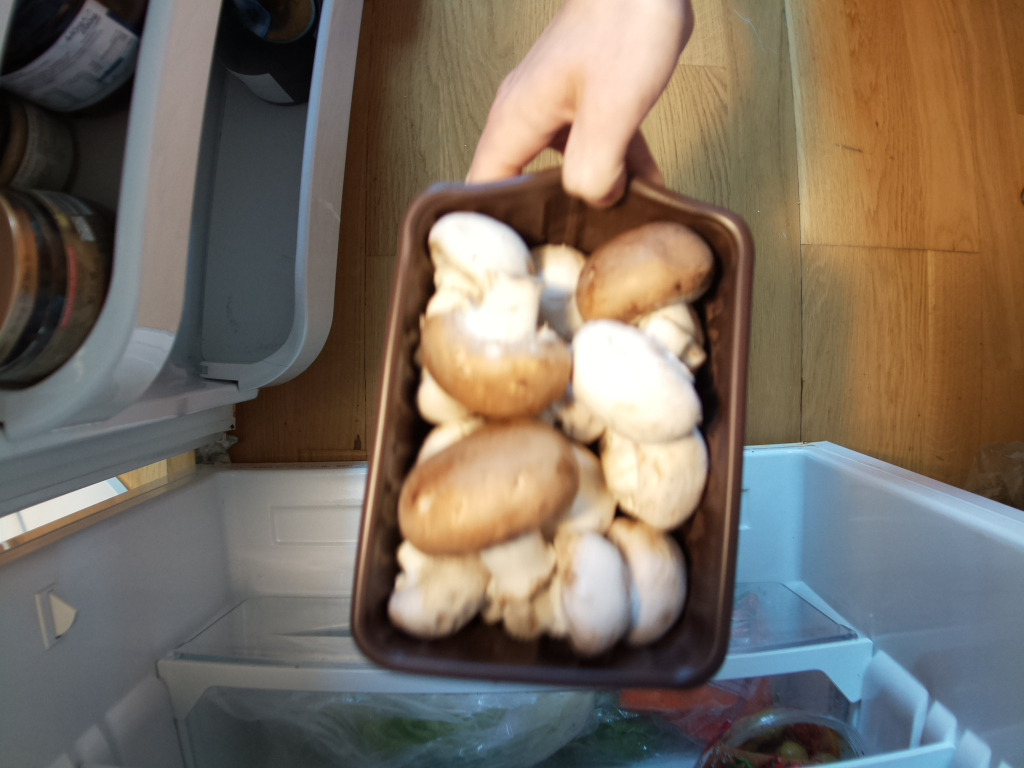mushrooms: (343, 200, 736, 681)
